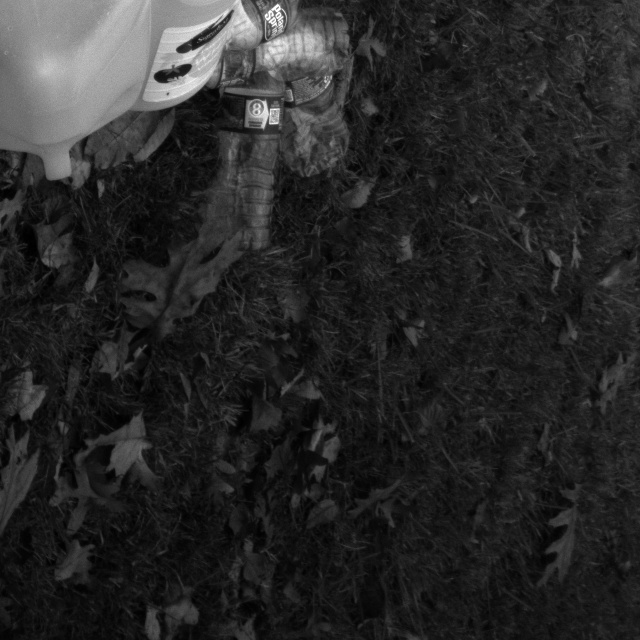bottle: (192, 69, 293, 265), (211, 7, 366, 100)
can: (0, 0, 149, 186), (125, 0, 261, 136)
